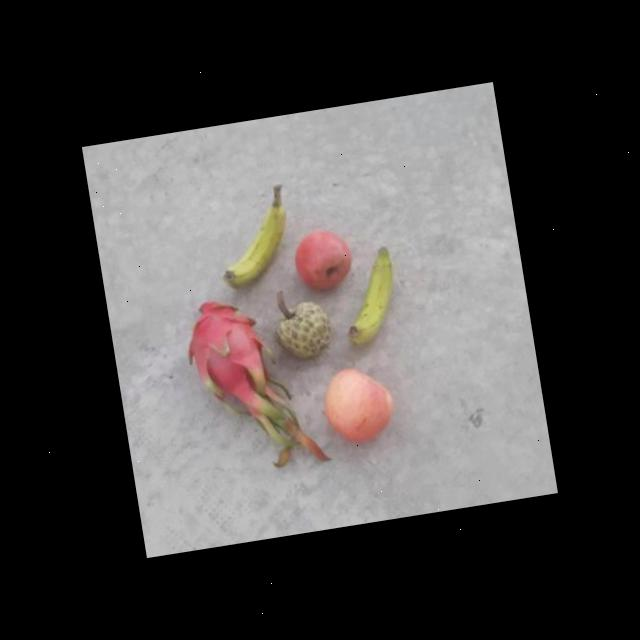Sakya fruit: (270, 296, 338, 364)
apple: (307, 356, 400, 451), (290, 216, 358, 298)
banana: (328, 242, 414, 364), (210, 192, 300, 296)
pitaya: (175, 290, 289, 408)
